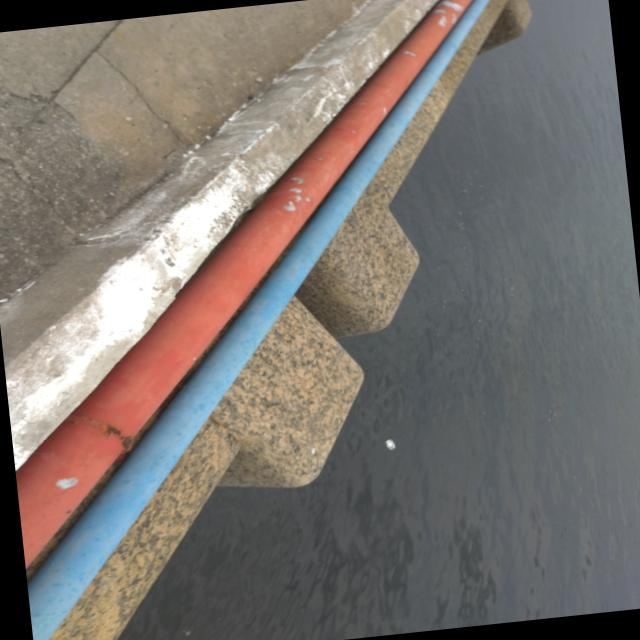gas: (26, 0, 488, 640), (15, 0, 473, 559)
